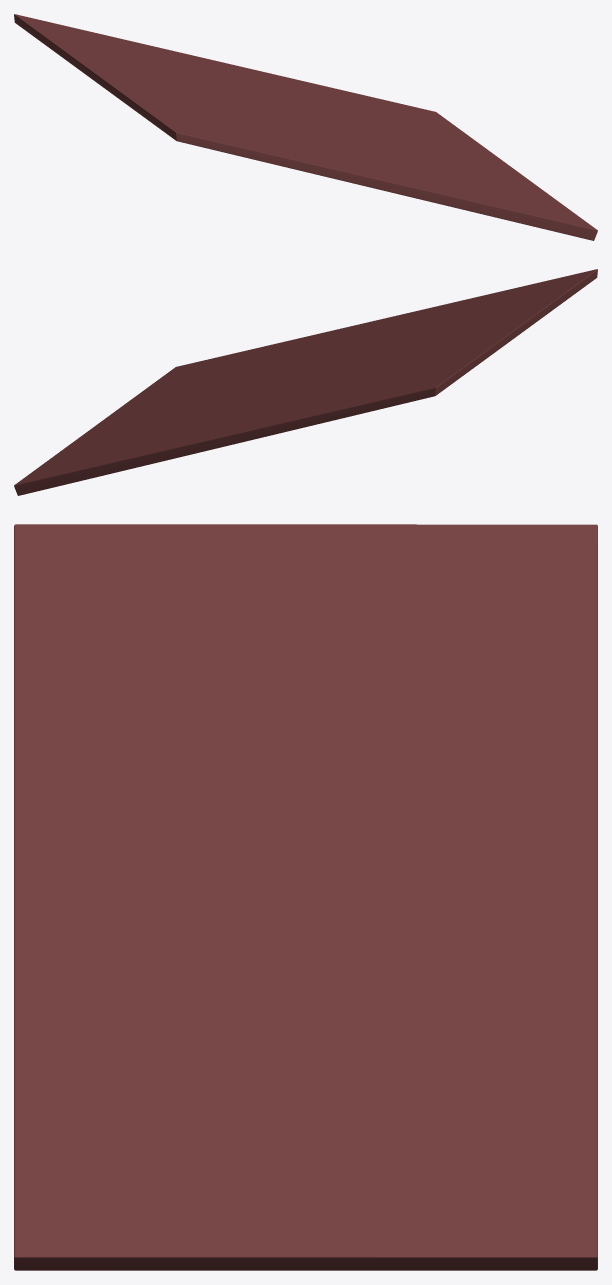
The model's file is roof.fbx.
The picture shows the model from 3 angles, top to bottom: view 1: azimuth 30°, elevation 25°; view 2: azimuth 150°, elevation 25°; view 3: azimuth 270°, elevation 25°; orthographic projection. The views are drawn at different scales.
Parts seen in each view (by area): view 1: roof; view 2: roof; view 3: roof.
Boxes of the visible parts, x1,y1,x2,y2 form: roof: (14, 14, 597, 240); roof: (14, 269, 597, 495); roof: (14, 524, 597, 1270).
Bounding box in the file's own units: 354 × 168 × 235.
